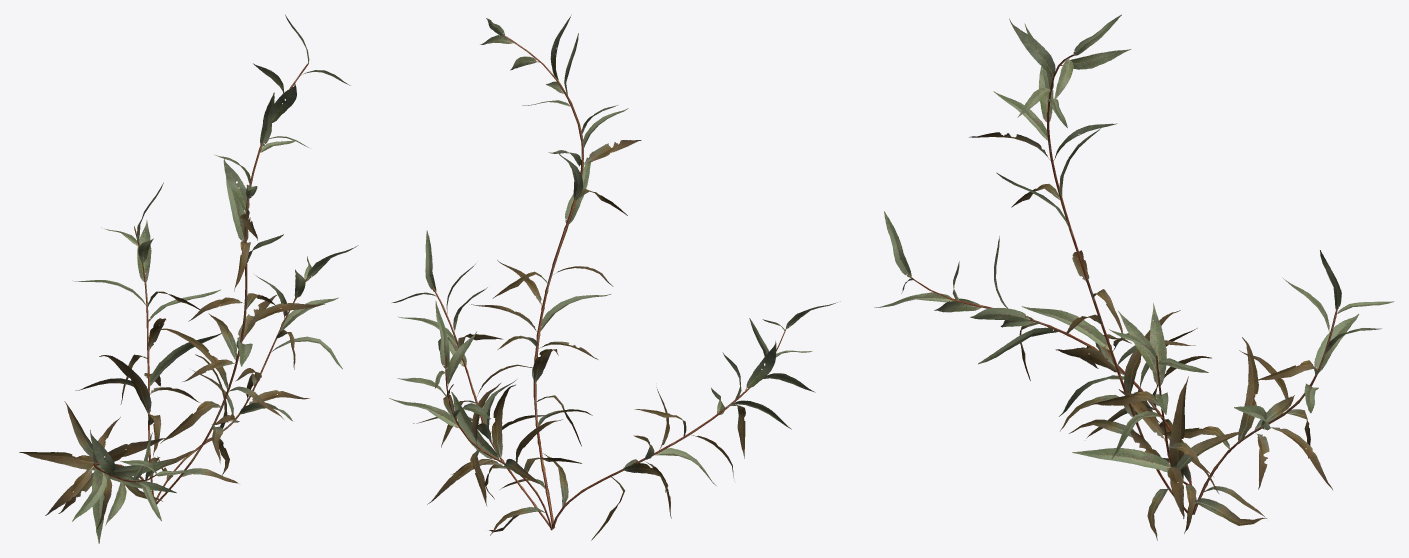
Rendered from Scan_Shrub_B.fbx.
The picture shows the model from 3 angles, left to right: view 1: azimuth 30°, elevation 25°; view 2: azimuth 150°, elevation 25°; view 3: azimuth 270°, elevation 25°; orthographic projection. The views are drawn at different scales.
Parts seen in each view (by area): view 1: Scan_Shrub_B_LOD0; view 2: Scan_Shrub_B_LOD0; view 3: Scan_Shrub_B_LOD0.
Part boxes in pixels (x1,y1,x2,y2): Scan_Shrub_B_LOD0: [19, 14, 358, 543]; Scan_Shrub_B_LOD0: [389, 15, 840, 540]; Scan_Shrub_B_LOD0: [874, 14, 1394, 540].
Size of what is drawn, in the model's own units: 1.11 by 1.51 by 1.28.
